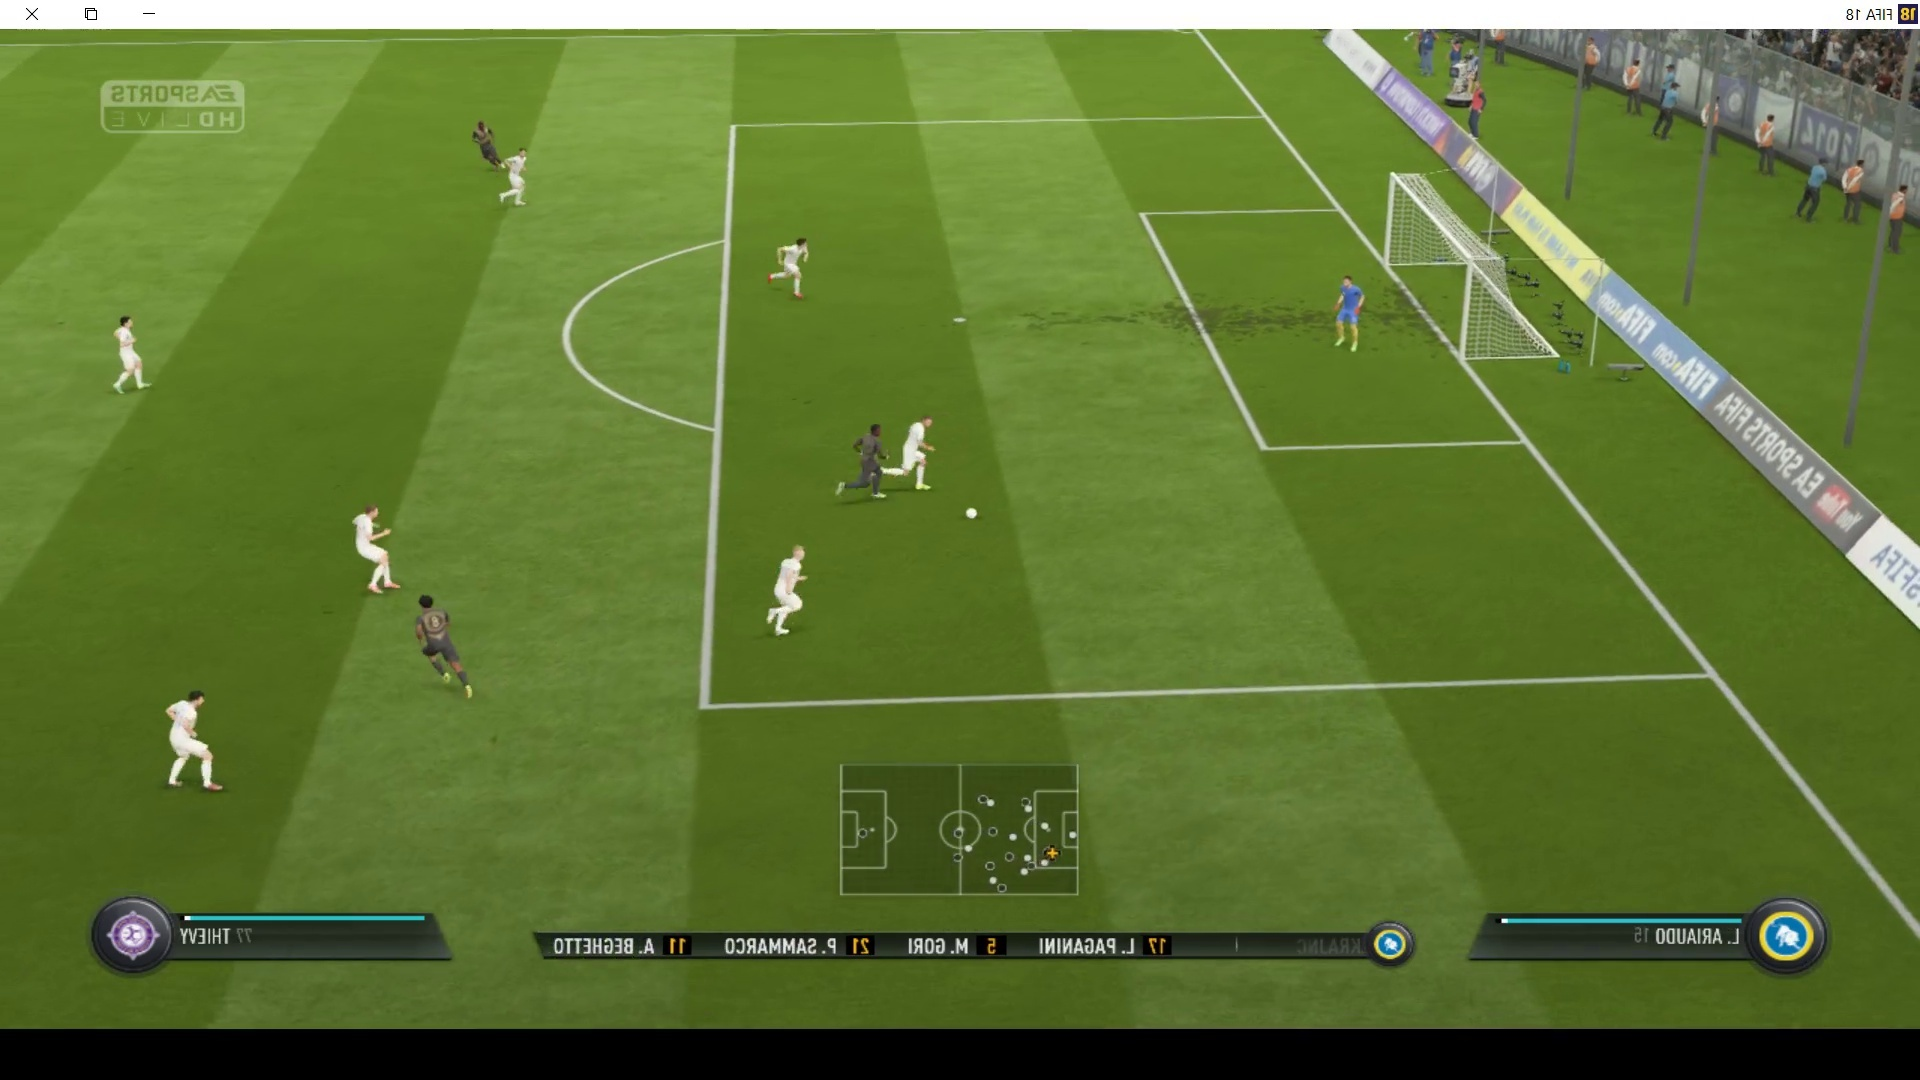ball: (960, 503, 982, 527)
person: (413, 596, 474, 703), (163, 684, 217, 789), (350, 496, 400, 593), (884, 408, 936, 493), (763, 544, 812, 636), (834, 422, 888, 500), (107, 312, 155, 396), (1331, 269, 1367, 358), (767, 234, 812, 298), (470, 110, 507, 170), (498, 144, 534, 206)
